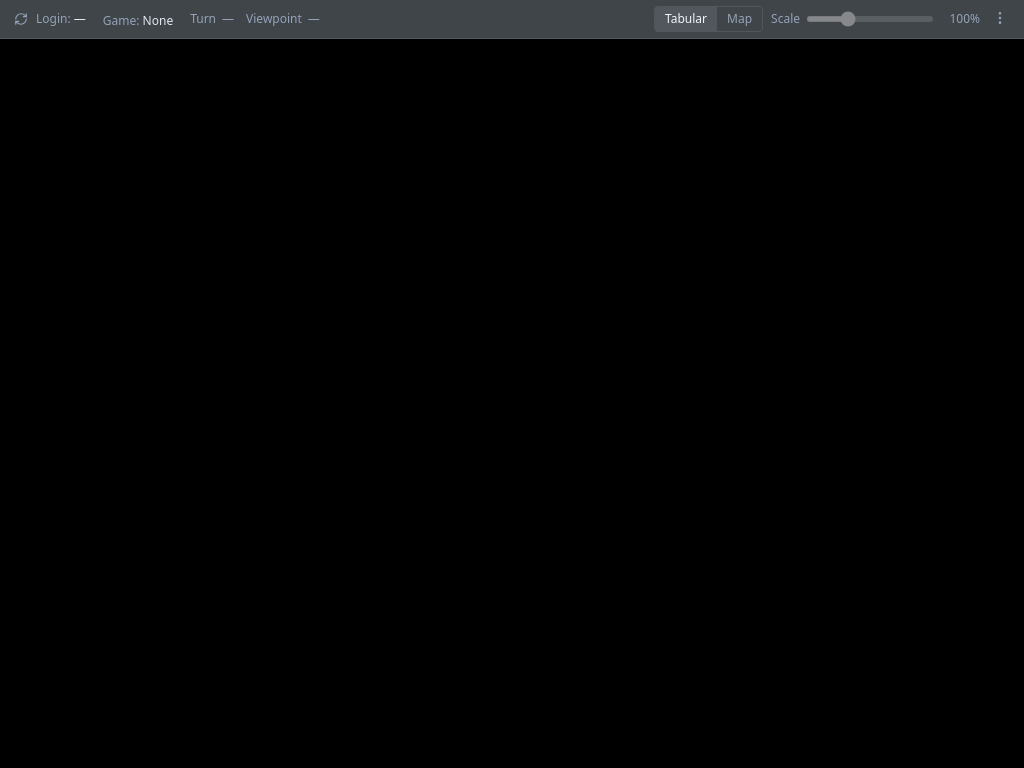
Test case: Header › opens about from the header menu
Click the button named "open menu": (1000, 18) [988,6,1012,30]
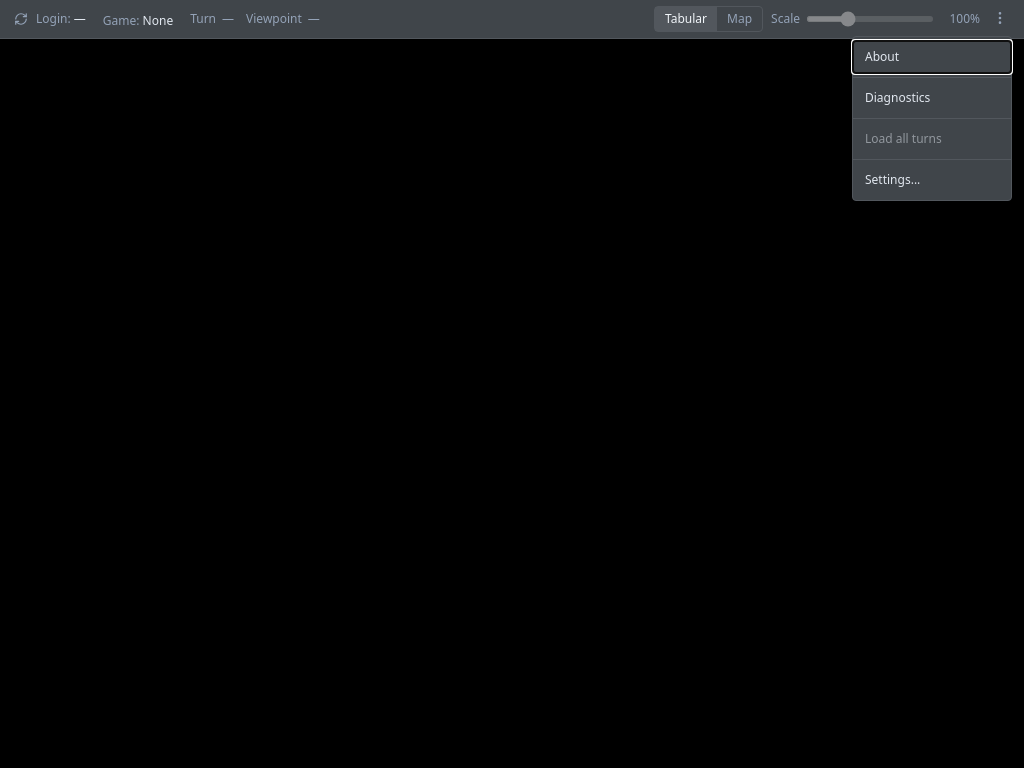
Click the button "About": (932, 57) [853,41,1011,73]
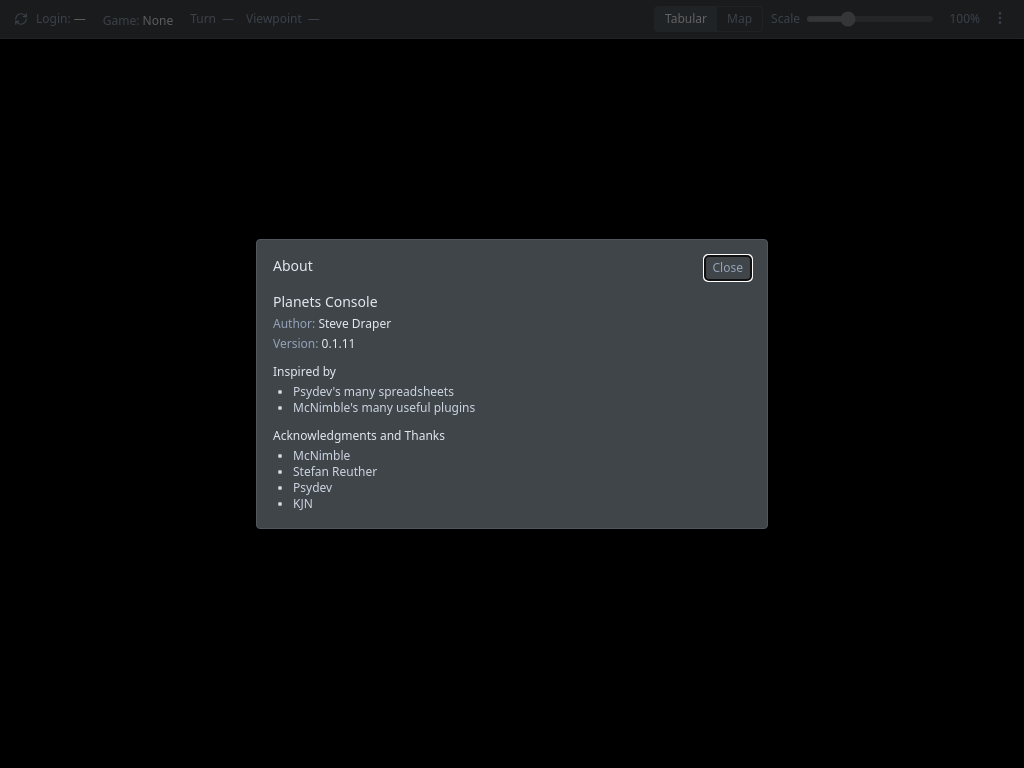
Expected: the dialog "About" is shown, [256,239,768,529]
Expected: the text "Planets Console" is shown, [273,292,378,311]
Expected: the text "Steve Draper" is shown, [318,315,391,332]
